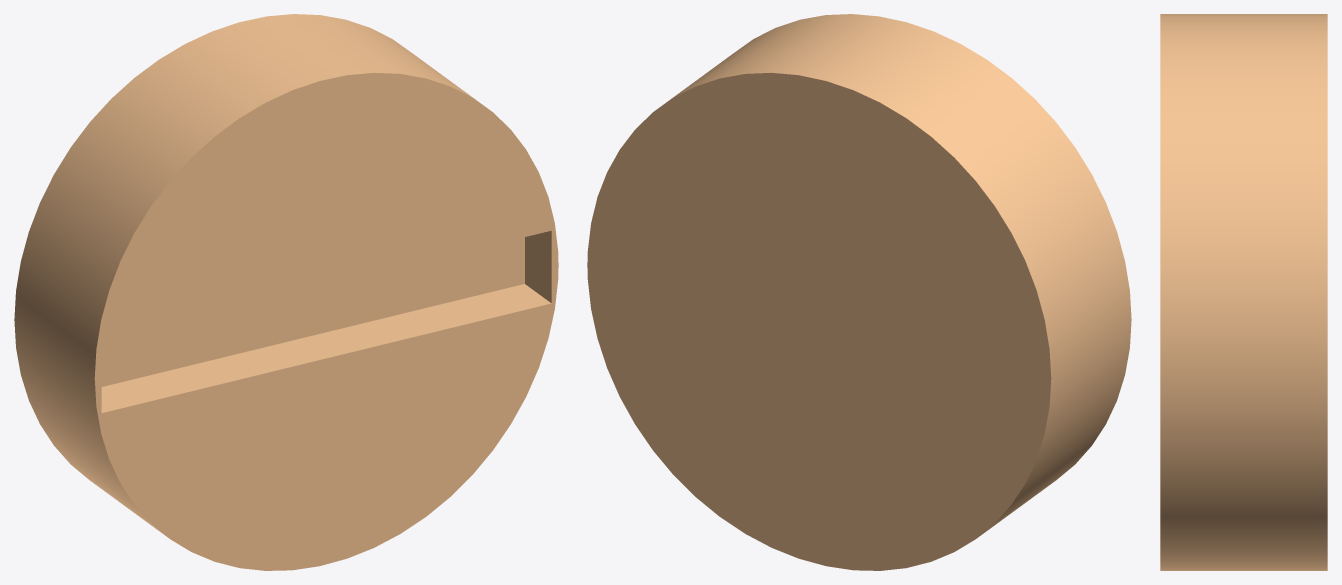
The model's file is tissue_1.obj.
The picture shows the model from 3 angles, left to right: view 1: azimuth 30°, elevation 25°; view 2: azimuth 150°, elevation 25°; view 3: azimuth 270°, elevation 25°; orthographic projection. The views are drawn at different scales.
Visible parts, largest first — view 1: mesh 1; view 2: mesh 1; view 3: mesh 1.
Part boxes in pixels (<box>): mesh 1: <box>14,14,558,570</box>; mesh 1: <box>587,14,1131,570</box>; mesh 1: <box>1160,14,1327,570</box>.
Size of the model in its own units: 0.1 by 0.1 by 0.03.
